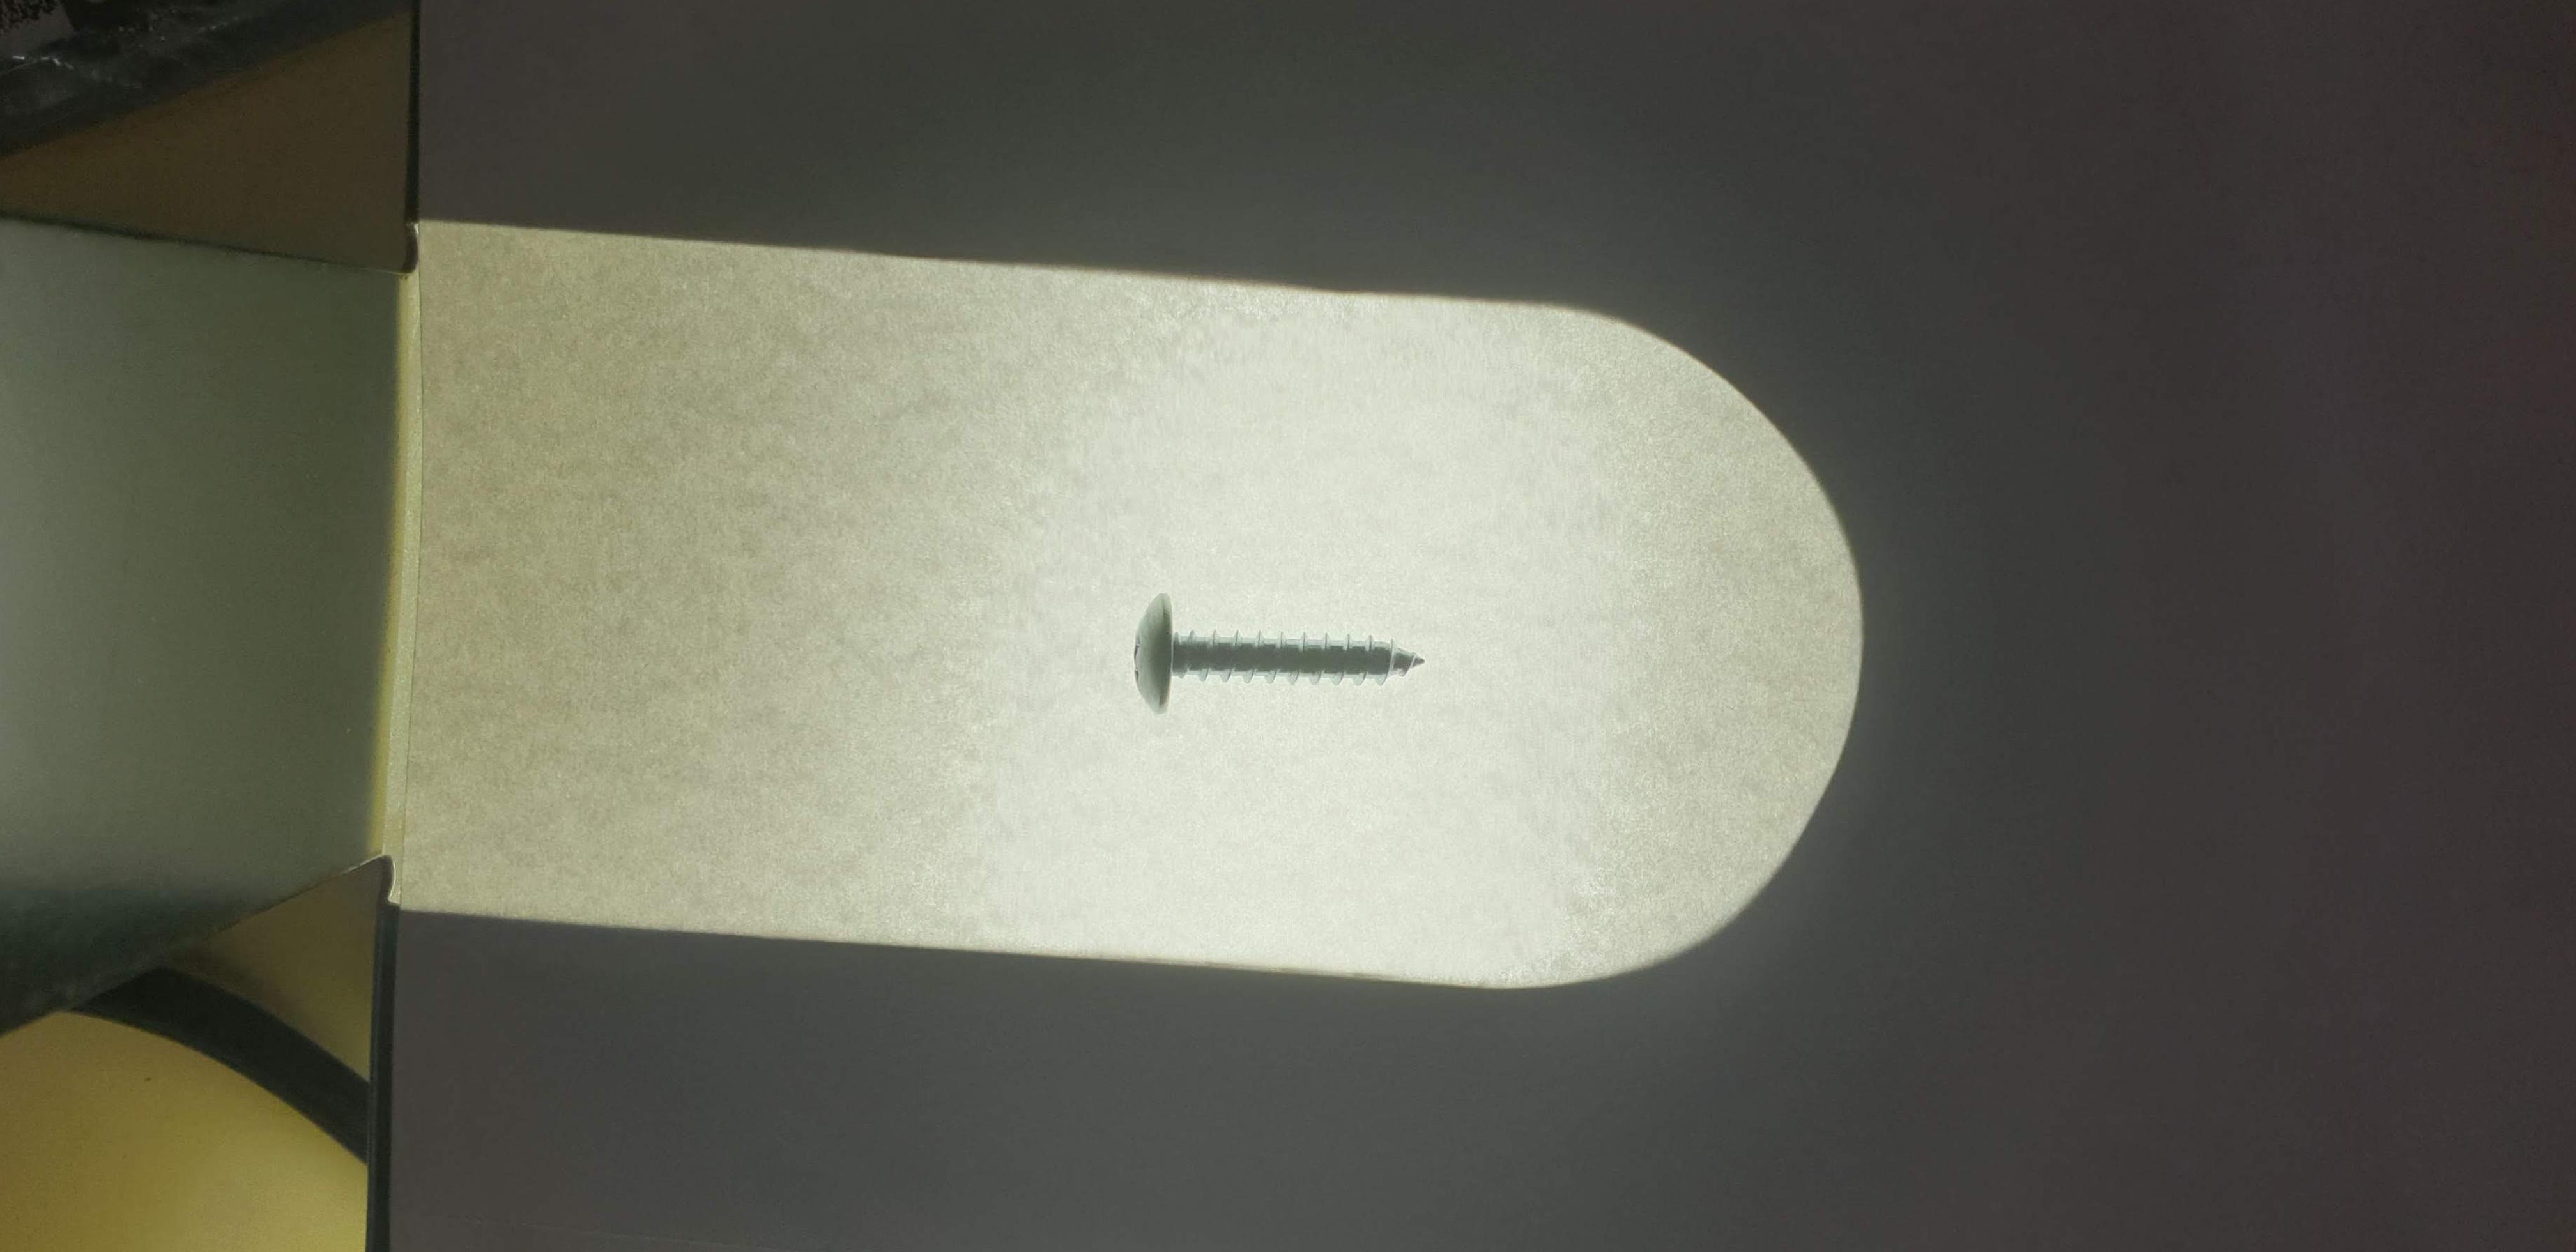S002: (1084, 560, 1488, 753)
